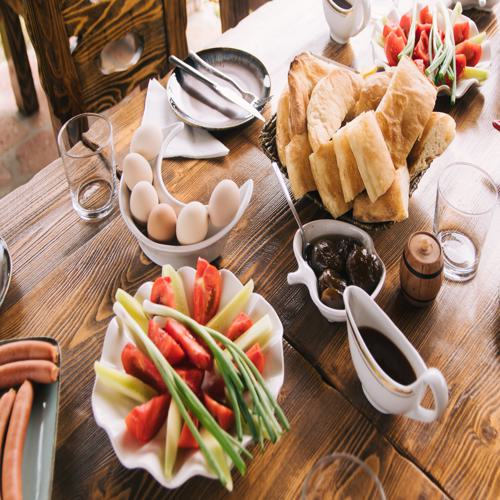vaso: (51, 111, 122, 223), (435, 162, 497, 289)
